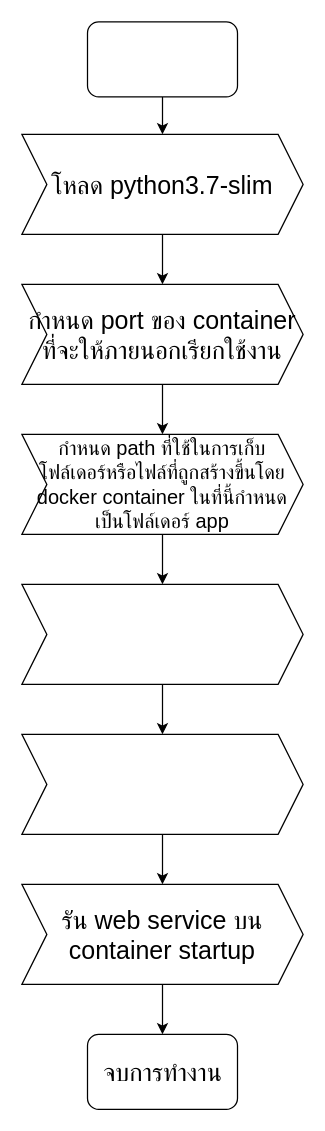
Image size: 325x1131. Some labels were removed from this diagram. Here are the shapes that lost their labels. From the top down, the box of each, then its label:
(86, 21, 238, 97): เริ่มต้น
(21, 583, 303, 684): ทำการคัดลอกโฟล์เดอร์และไฟล์ ที่ถูกสร้างขึ้นจากเครื่องไปไว้ใน ขั้นตอนก่อนหน้า
(21, 733, 303, 834): ทำการลงไลบรารีที่จำเป็นจากไฟล์ requirement.txt
